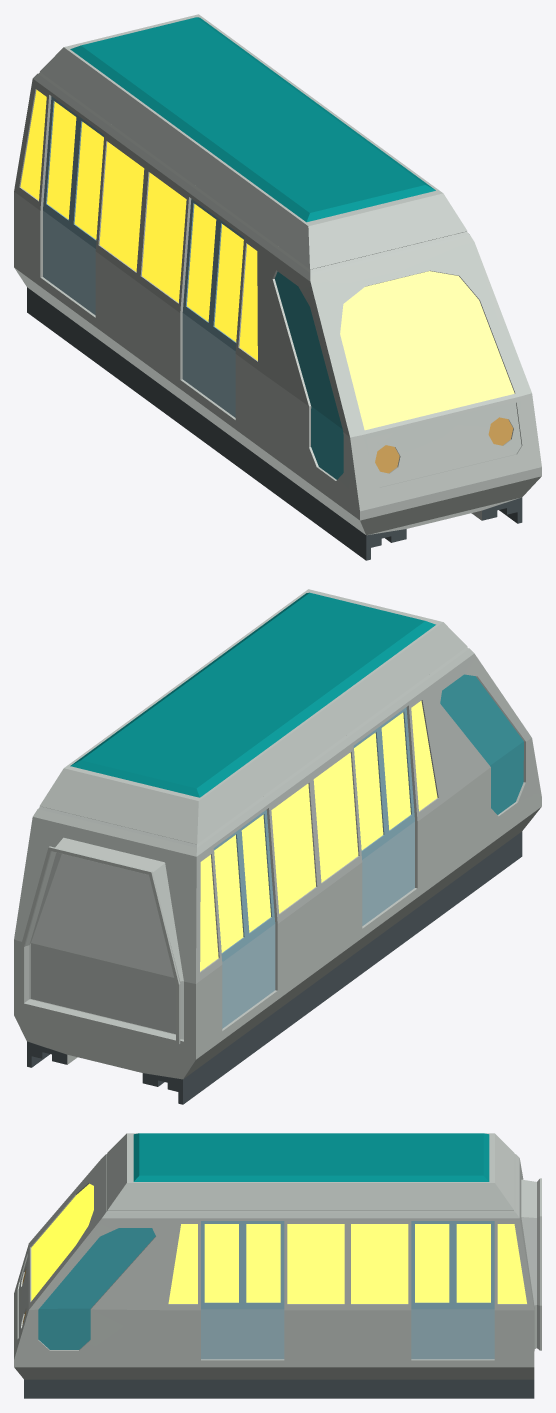
The model's file is SM_monorail_01.glb.
3 views of the same model, one above another, from view 1: azimuth 30°, elevation 25°; view 2: azimuth 150°, elevation 25°; view 3: azimuth 270°, elevation 25° (orthographic). The views are drawn at different scales.
Visible parts, largest first — view 1: SM_monorail_01; view 2: SM_monorail_01; view 3: SM_monorail_01.
Boxes of the visible parts, x1=… form: SM_monorail_01: x1=14, y1=14, x2=541, y2=560; SM_monorail_01: x1=14, y1=589, x2=541, y2=1104; SM_monorail_01: x1=14, y1=1133, x2=541, y2=1398.
Size of the model in its own units: 1.64 by 2.45 by 5.45.
Materials: 2 (1 with a texture image).
